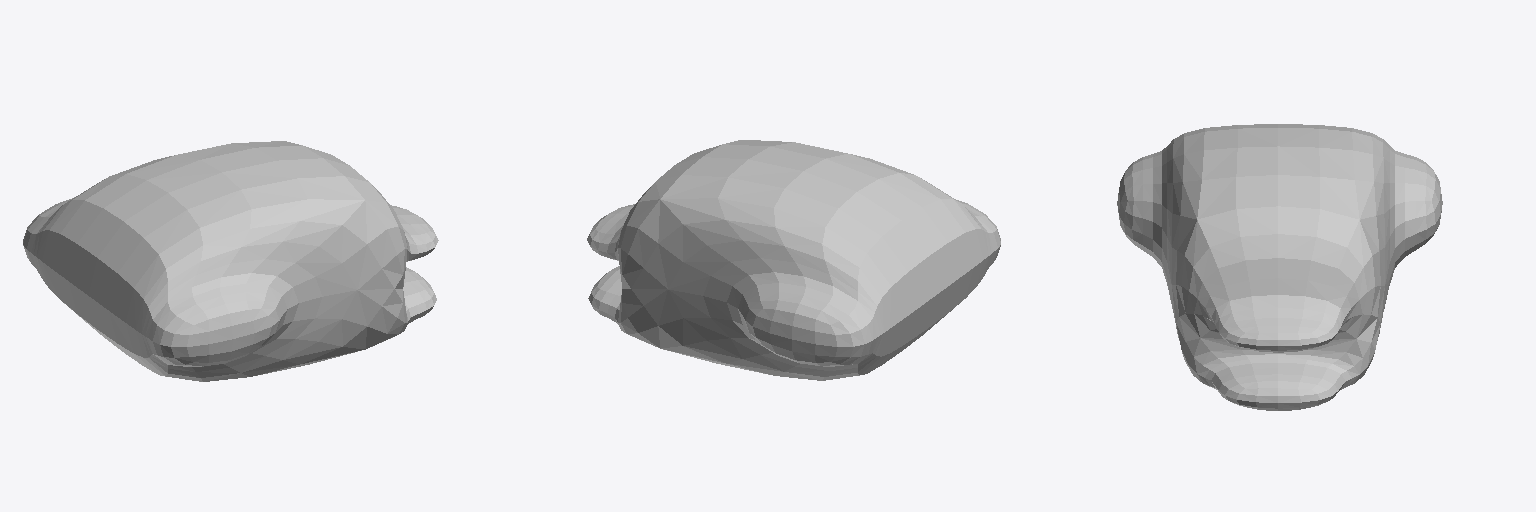
The model's file is bird.obj.
The picture shows the model from 3 angles: view 1: azimuth 30°, elevation 25°; view 2: azimuth 150°, elevation 25°; view 3: azimuth 270°, elevation 25°; orthographic projection.
Visible parts, largest first — view 1: Cube; view 2: Cube; view 3: Cube.
Part boxes in pixels (x1,y1,x2,y2): Cube: (23, 141, 438, 381); Cube: (587, 140, 1000, 380); Cube: (1117, 124, 1442, 410).
Size of the model in its own units: 3.62 by 1.9 by 3.03.